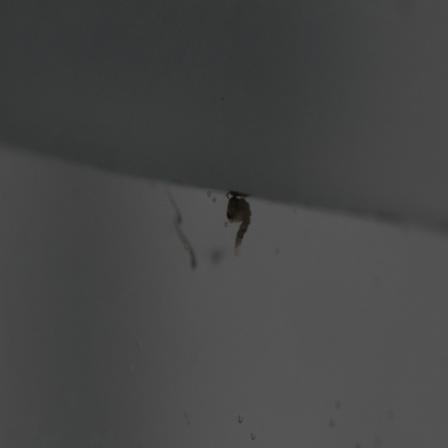Jentik-Nyamuk: (218, 192, 255, 253)
